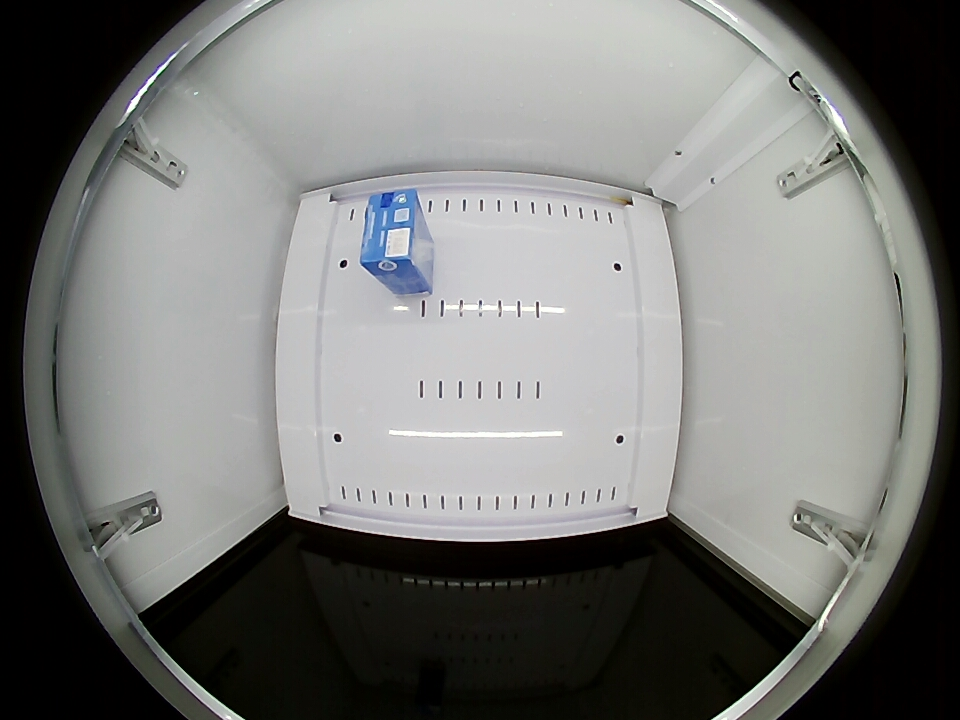weitanai: (360, 190, 425, 280)
